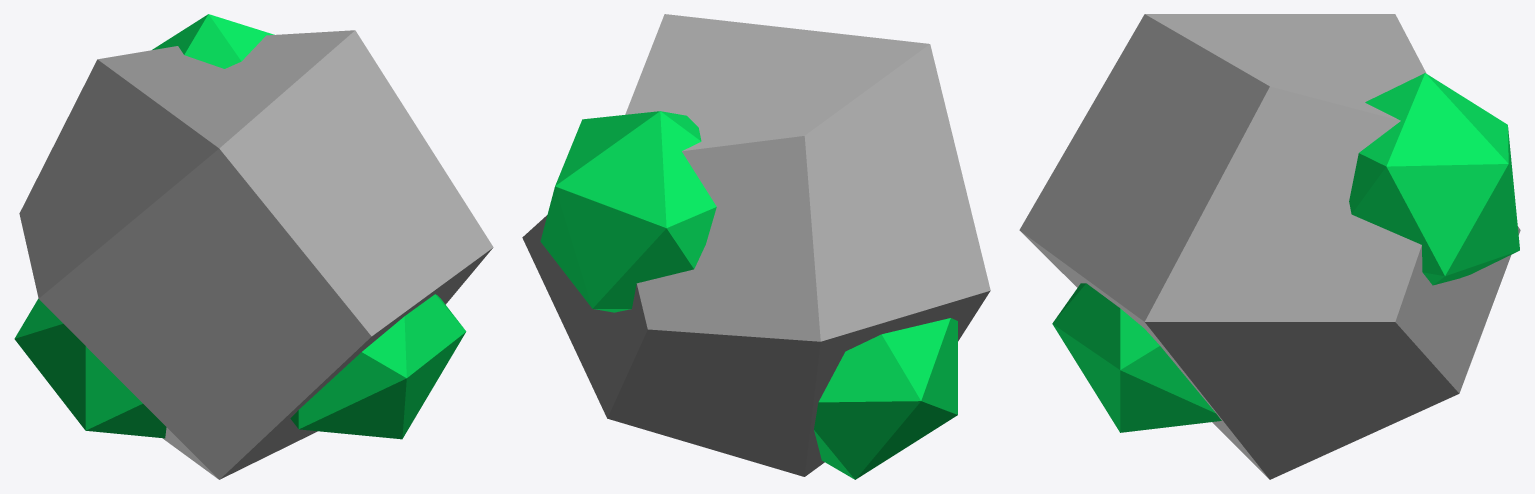
File: asteroid_bug.fbx
3 renders of one model, left to right at view 1: azimuth 30°, elevation 25°; view 2: azimuth 150°, elevation 25°; view 3: azimuth 270°, elevation 25°, orthographic. The views are drawn at different scales.
Visible parts, largest first — view 1: asteroid_bug, pPlatonic3, pPlatonic2, pPlatonic1; view 2: asteroid_bug, pPlatonic1, pPlatonic2; view 3: asteroid_bug, pPlatonic1, pPlatonic3.
Boxes of the visible parts, left/top/right/bottom form: asteroid_bug: left=19, top=30, right=493, bottom=479; pPlatonic3: left=290, top=294, right=466, bottom=439; pPlatonic2: left=14, top=298, right=166, bottom=438; pPlatonic1: left=152, top=14, right=274, bottom=68; asteroid_bug: left=522, top=14, right=990, bottom=476; pPlatonic1: left=540, top=111, right=716, bottom=312; pPlatonic2: left=814, top=318, right=957, bottom=479; asteroid_bug: left=1019, top=14, right=1520, bottom=479; pPlatonic1: left=1349, top=73, right=1519, bottom=285; pPlatonic3: left=1052, top=283, right=1221, bottom=432.
Bounding box in the file's own units: 2.15 × 1.99 × 2.3.
